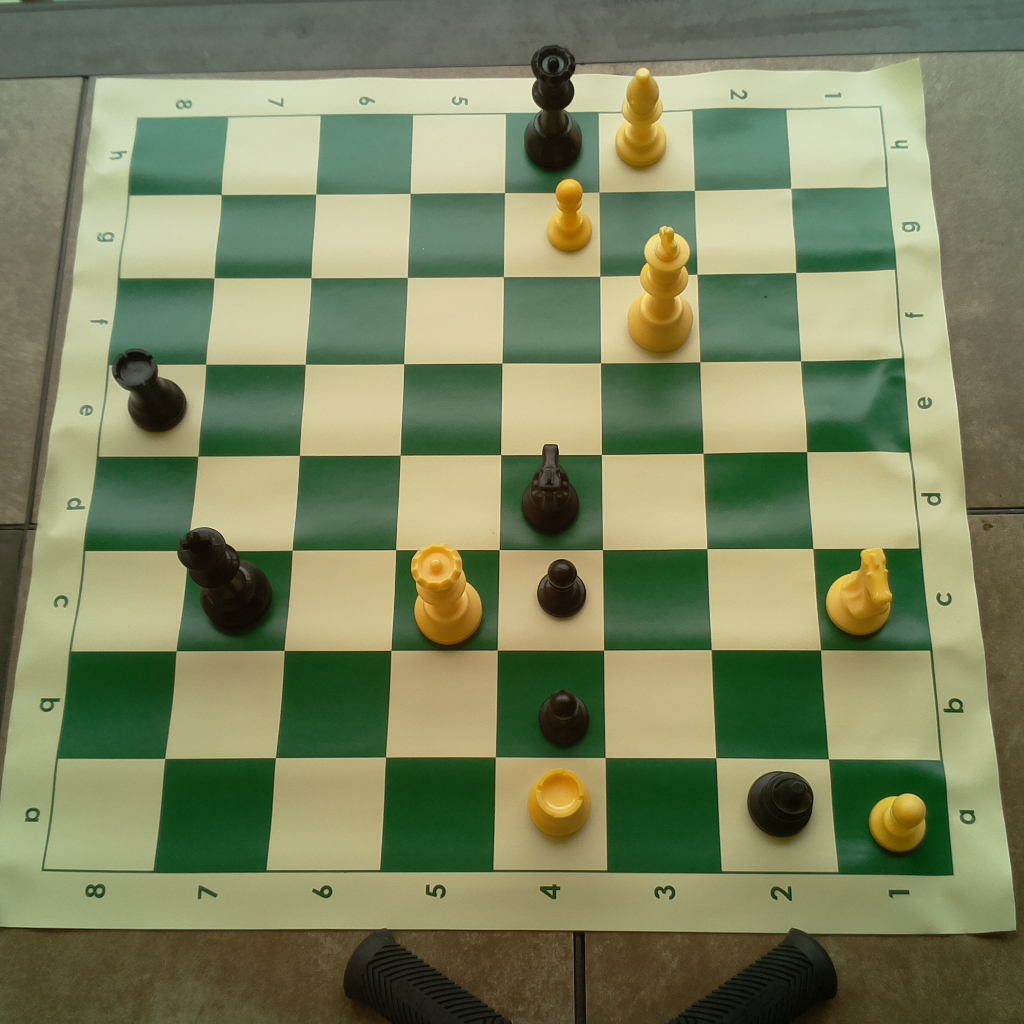black_bishop: (741, 761, 818, 840)
black_king: (177, 525, 276, 632)
black_knight: (514, 440, 584, 539)
black_pawn: (536, 556, 594, 621), (536, 684, 594, 745)
black_queen: (515, 41, 586, 173)
black_rook: (103, 341, 190, 435)
file_a: (42, 758, 954, 874)
file_b: (57, 652, 945, 762)
file_c: (68, 552, 932, 653)
file_d: (83, 458, 919, 547)
file_e: (99, 358, 910, 458)
file_f: (111, 271, 905, 361)
file_g: (120, 187, 894, 280)
file_h: (128, 108, 889, 188)
outline: (45, 105, 954, 875)
rank_1: (786, 106, 955, 877)
rank_2: (694, 108, 840, 873)
rank_3: (597, 109, 724, 873)
rank_4: (492, 110, 608, 873)
rank_5: (380, 112, 506, 871)
rank_6: (267, 113, 414, 875)
rank_7: (154, 114, 319, 871)
rank_8: (44, 118, 227, 874)
white_bishop: (610, 66, 672, 170)
white_king: (625, 222, 701, 357)
white_knight: (820, 539, 897, 638)
white_pawn: (870, 786, 934, 856), (549, 177, 593, 253)
white_queen: (399, 535, 489, 652)
white_rook: (524, 766, 598, 843)
